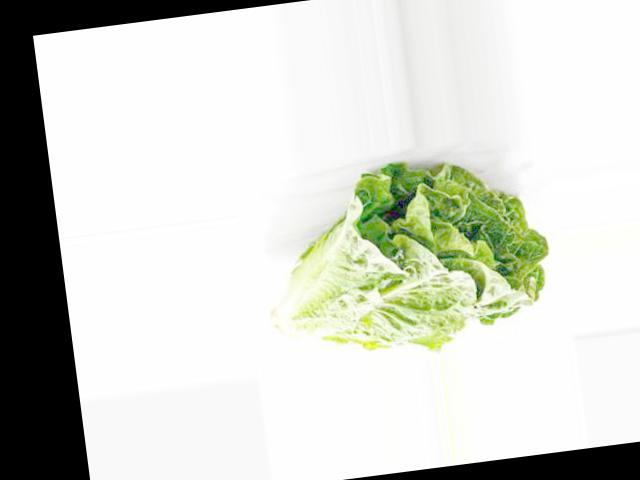lettuce: (302, 162, 466, 324)
